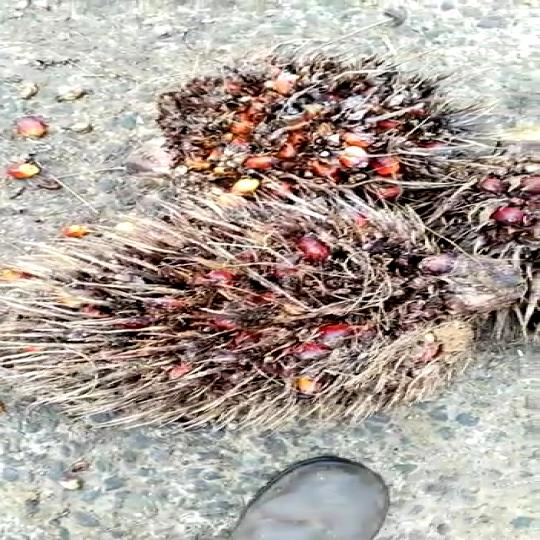terlalu masak: (0, 195, 513, 423), (127, 64, 476, 214)
